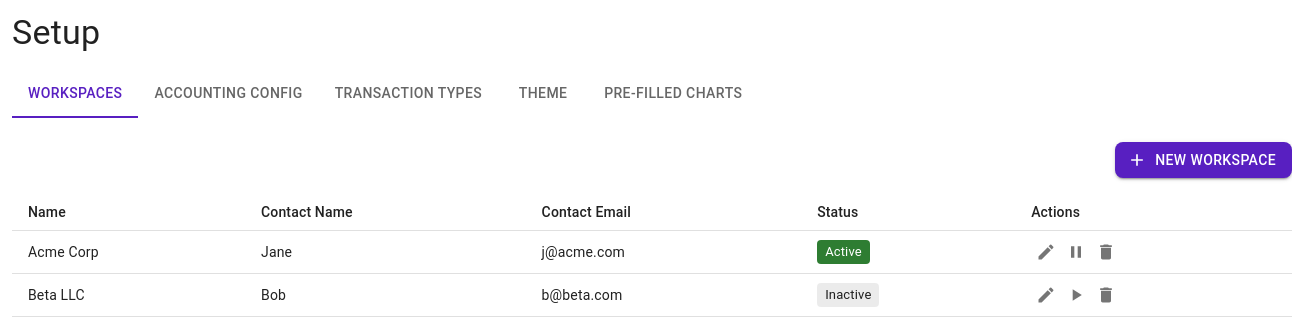
Test: SetupPage — loading / error states › shows loading in Accounting Config tab
Click the tab with test id "tab-accounting-config".
click(229, 94)  # box x1=138 y1=70 x2=319 y2=118
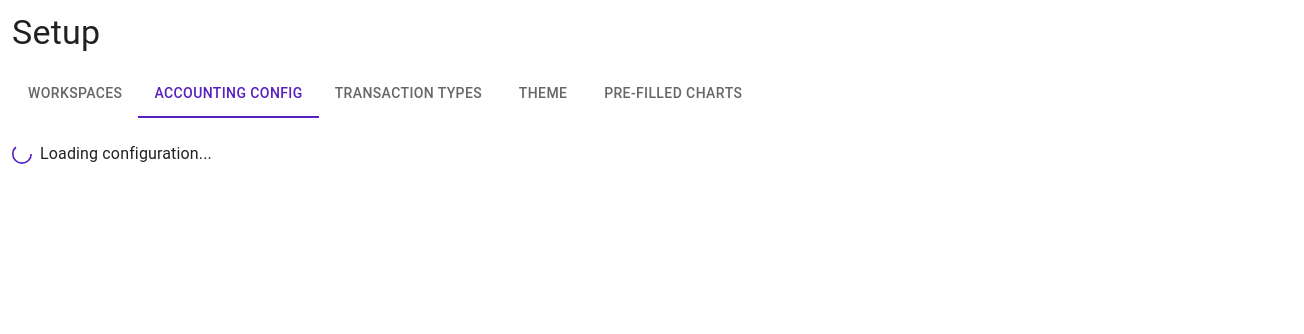
Check: the text "Loading configuration..." is shown, box x1=40 y1=142 x2=212 y2=166
